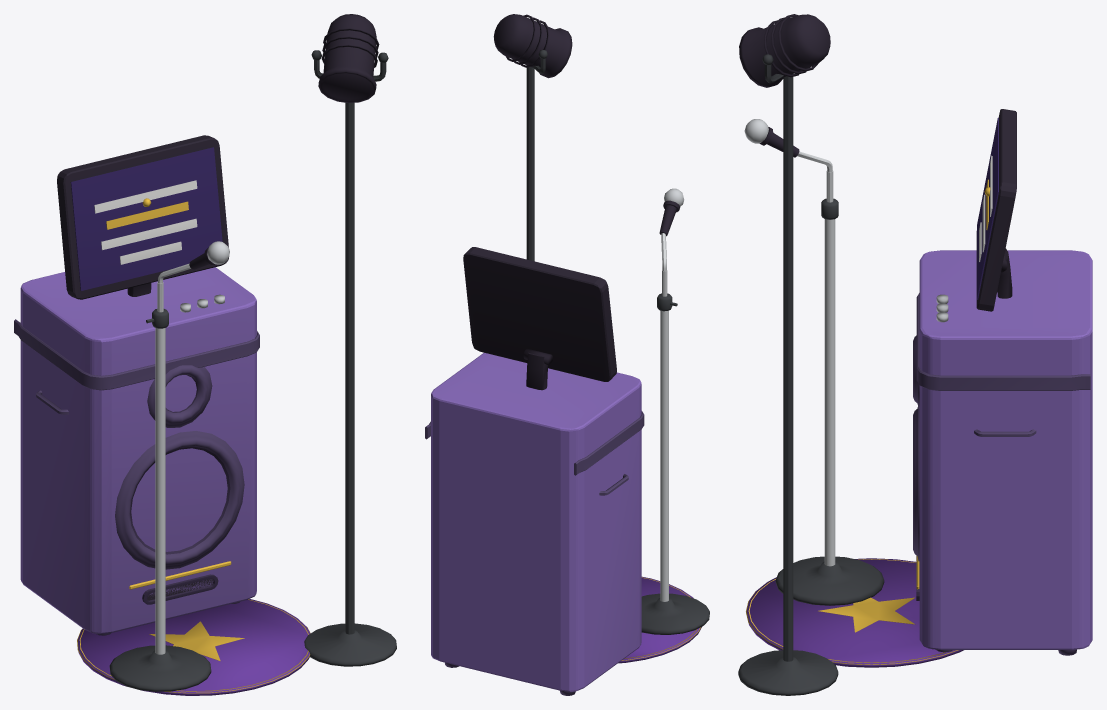
The model's file is karaokeMachine.glb.
3 renders of one model, left to right at view 1: azimuth 30°, elevation 25°; view 2: azimuth 150°, elevation 25°; view 3: azimuth 270°, elevation 25°, orthographic. The views are drawn at different scales.
Visible parts, largest first — view 1: body, mic; view 2: body, mic; view 3: body, mic.
Part boxes in pixels (x1,y1,x2,y2): body: [14, 14, 396, 695]; mic: [157, 241, 229, 312]; body: [425, 14, 709, 695]; mic: [659, 188, 684, 296]; body: [738, 14, 1092, 695]; mic: [744, 119, 833, 202].
Bounding box in the file's own units: 0.762 × 1.75 × 0.85.
